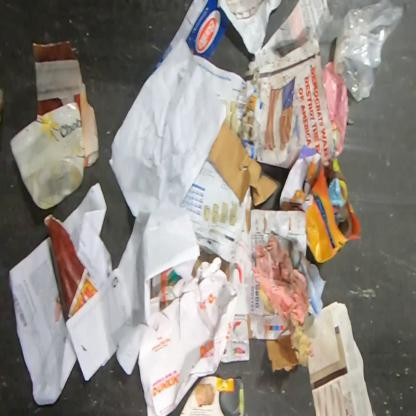cardboard: (278, 144, 362, 263), (151, 0, 232, 76)
rigid_plastic: (8, 101, 88, 211)
soft_plastic: (332, 0, 404, 104)
